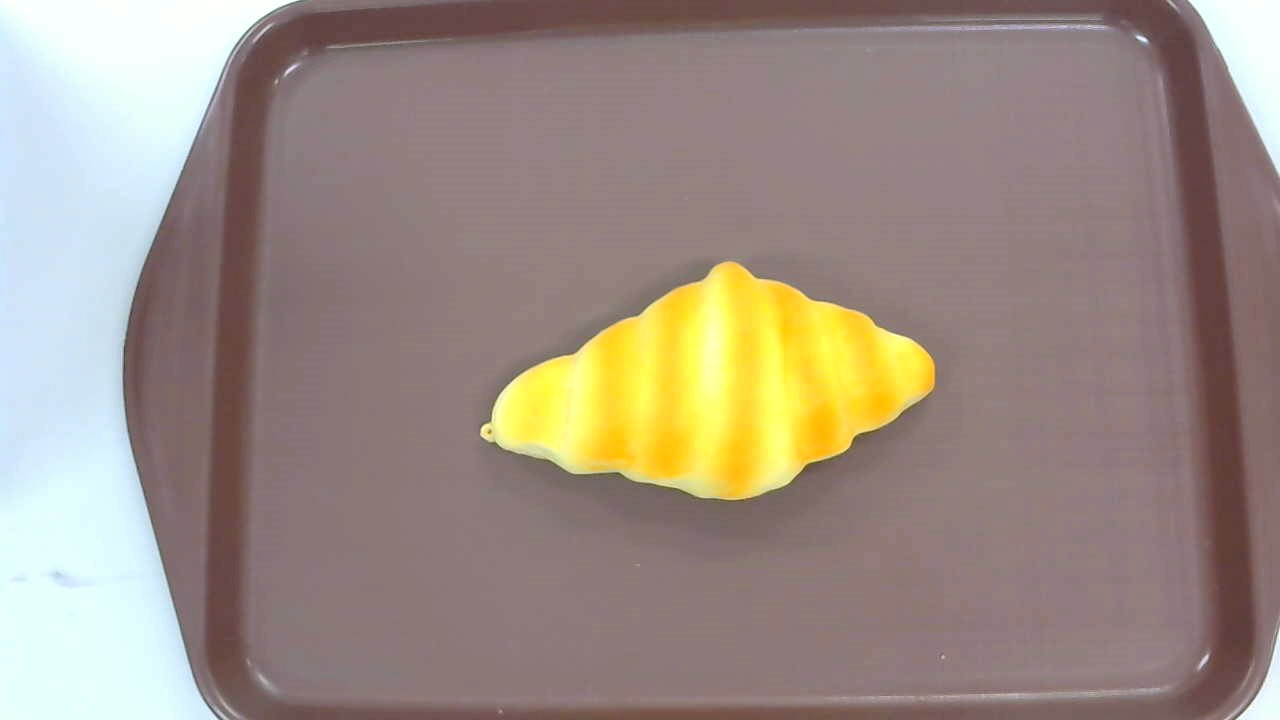croissant: (479, 262, 935, 502)
